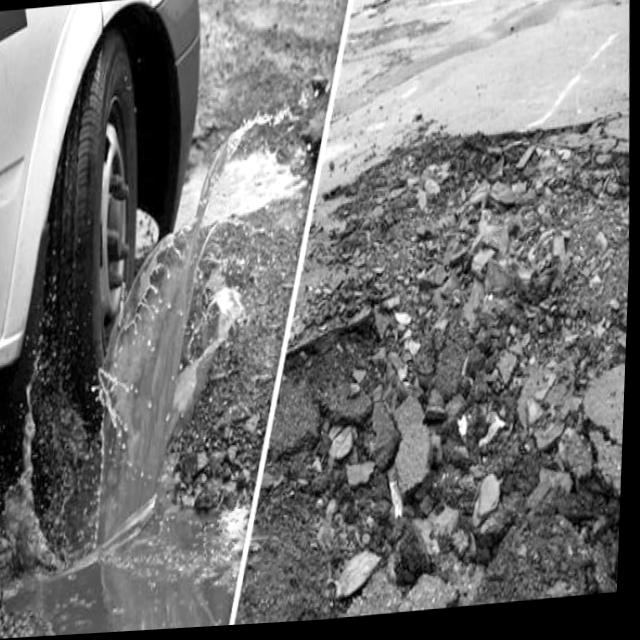pathole: (324, 87, 631, 595), (26, 160, 313, 638)
